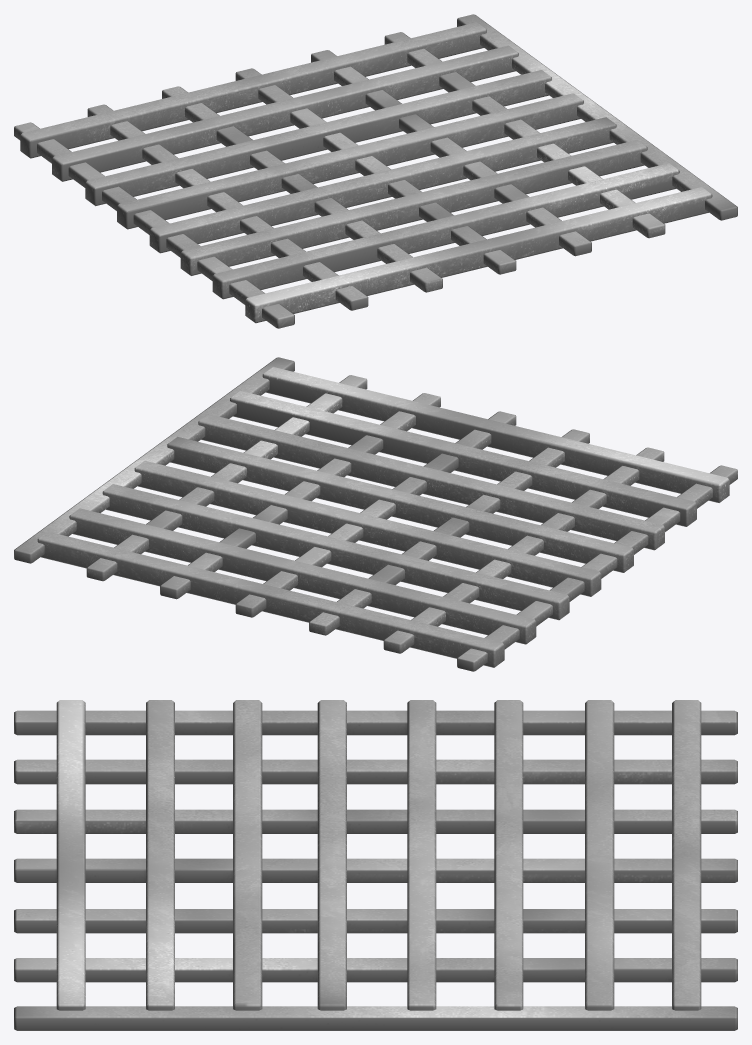
The model's file is grate.fbx.
The picture shows the model from 3 angles, top to bottom: view 1: azimuth 30°, elevation 25°; view 2: azimuth 150°, elevation 25°; view 3: azimuth 270°, elevation 25°; orthographic projection. The views are drawn at different scales.
Parts seen in each view (by area): view 1: default; view 2: default; view 3: default.
Boxes of the visible parts, x1,y1,x2,y2 form: default: (14,14,737,328); default: (14,357,737,671); default: (14,700,737,1030).
Size of the model in its own units: 253 by 10 by 248.
